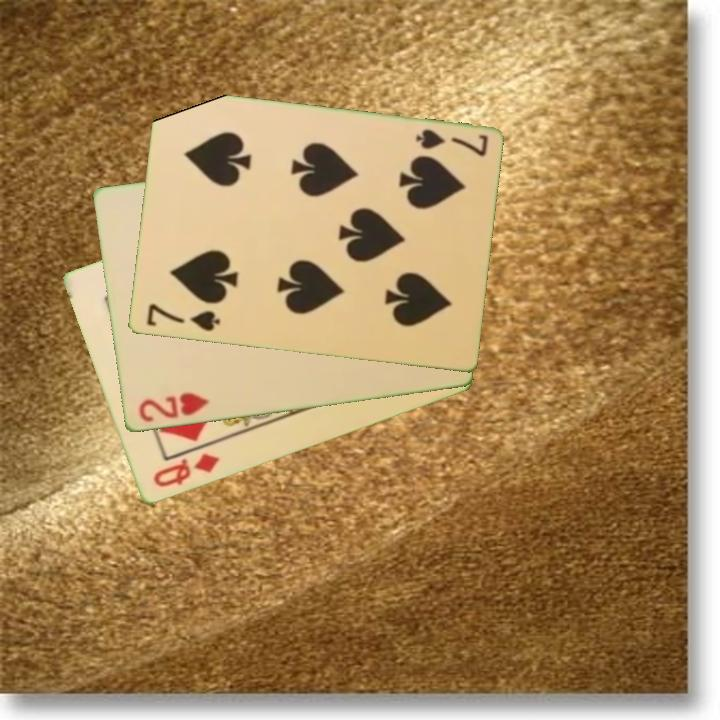2h: (135, 389, 211, 426)
7s: (143, 300, 223, 335), (412, 126, 491, 160)
Qd: (149, 450, 222, 491)
